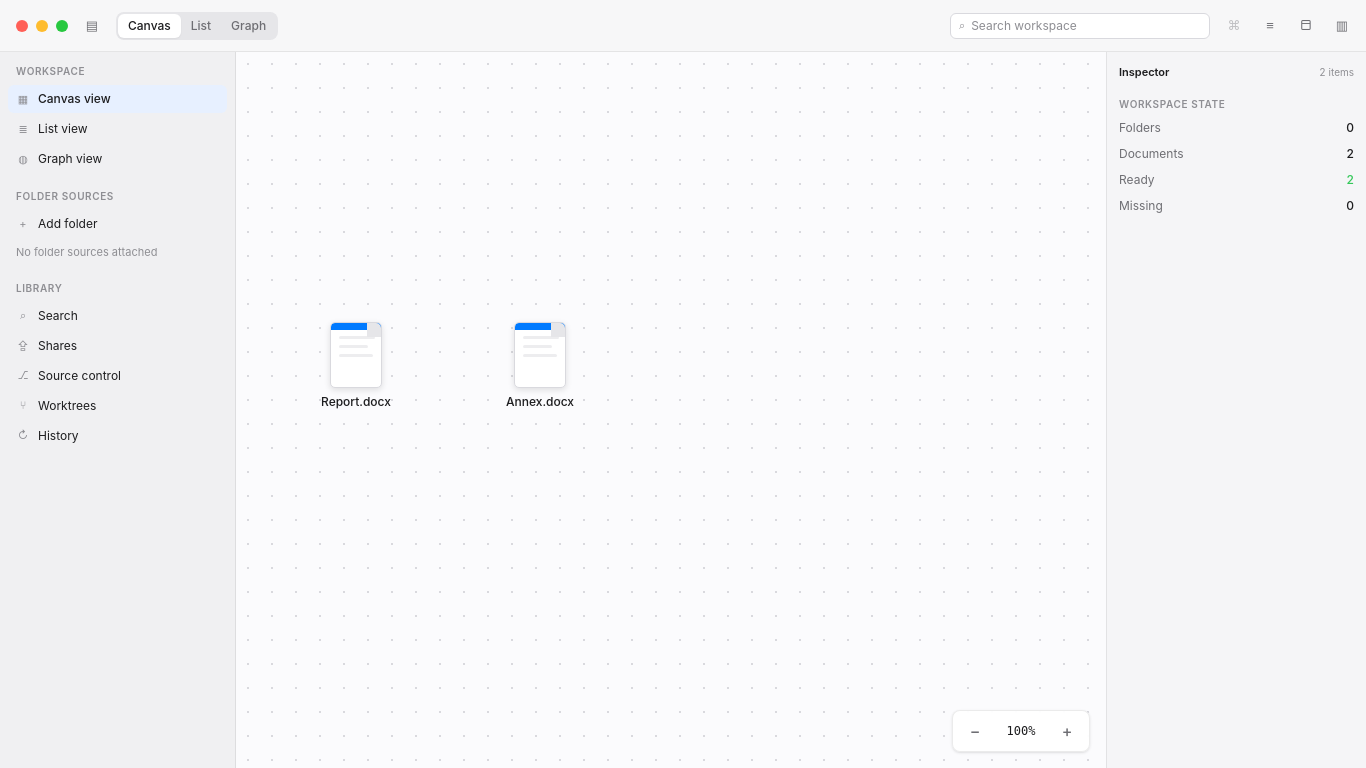
Test case: UI-03 screen 12 — only overlays with a real source and trigger › mounts the PDF collision overlay when the engine reports a real collision
The width and height of the screenshot is (1366, 768).
Step 1. Click the button named "PDF" → x=1306, y=26, box [1294,14,1318,38]
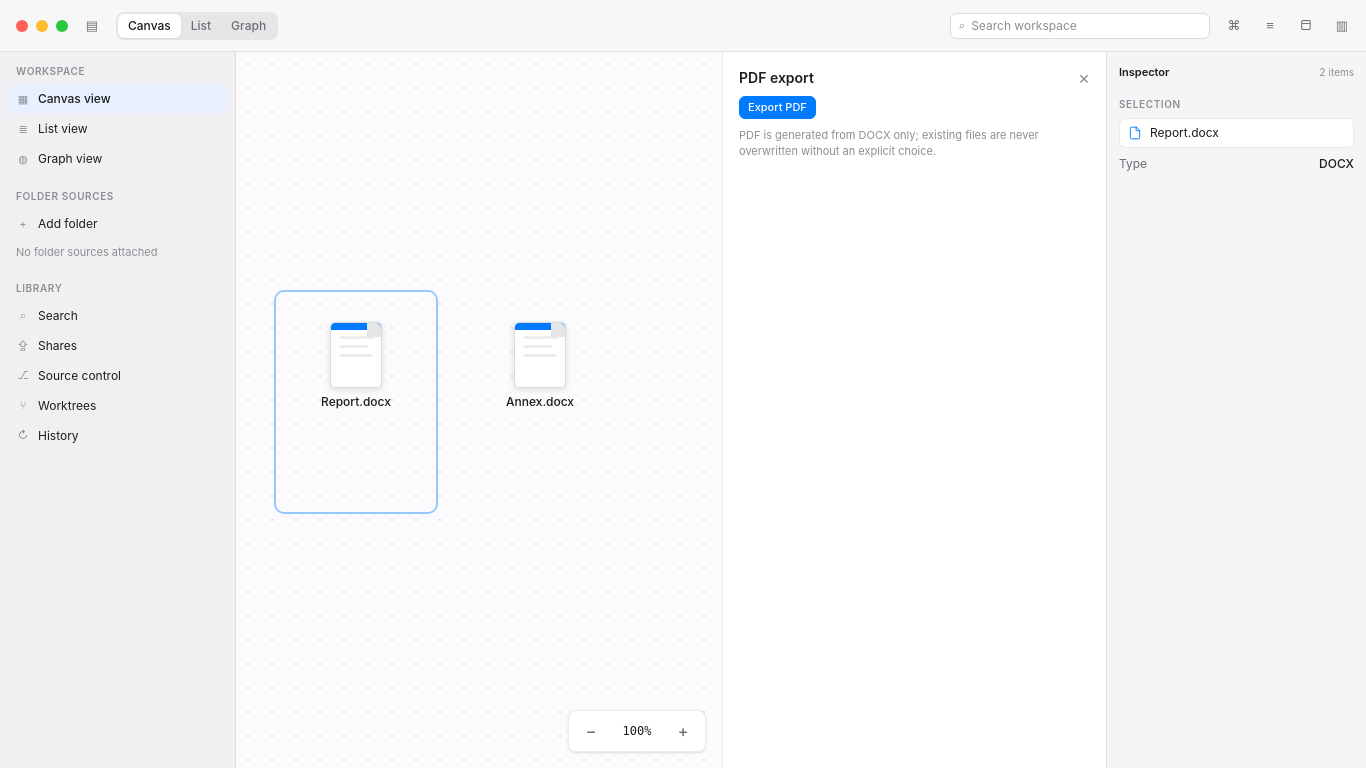
Step 2. Click the button "Export PDF" → x=777, y=107, box [739,96,816,118]
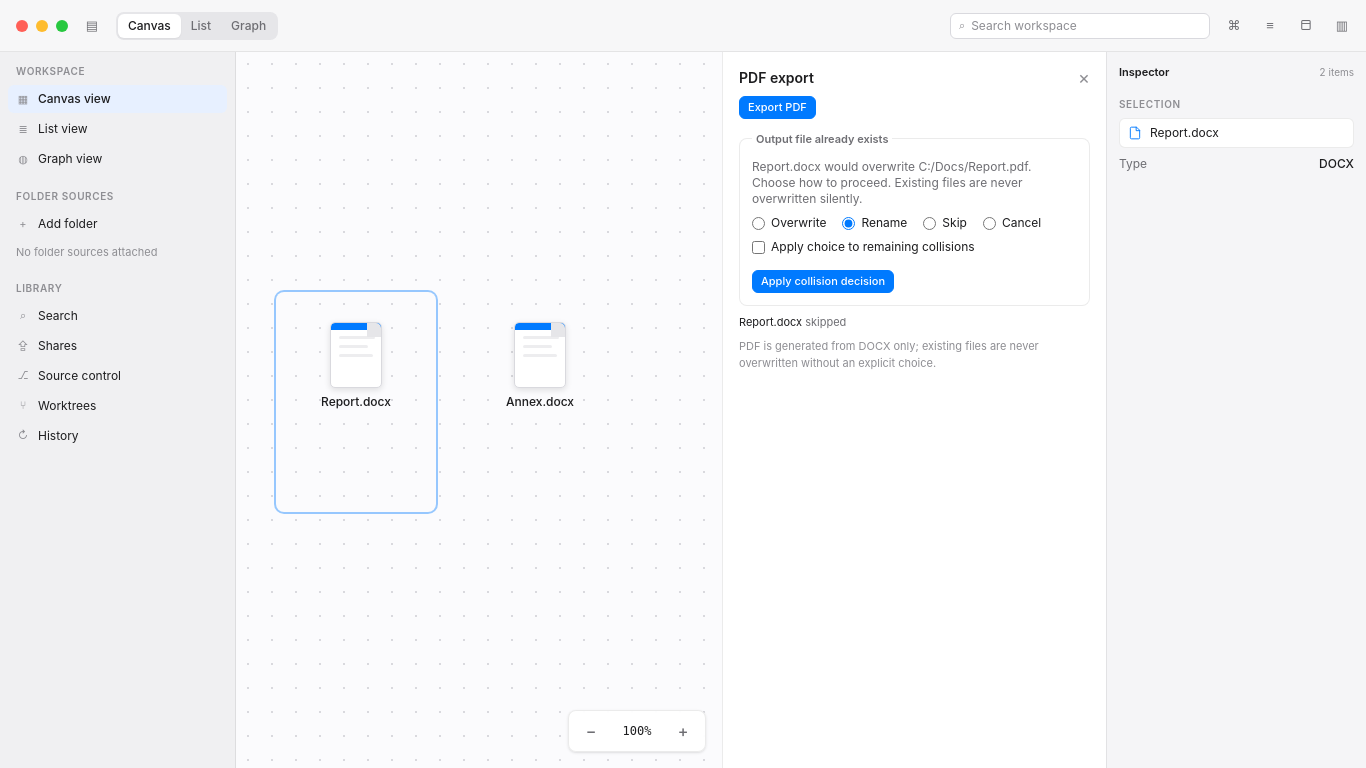
Expected: the element "Output file already exists" shows "Report.docx", [752,159,821,174]
Expected: the element "Output file already exists" shows "never overwritten silently", [752,159,1031,206]
Expected: the radio button labelled "Overwrite" is shown, [752,216,765,230]
